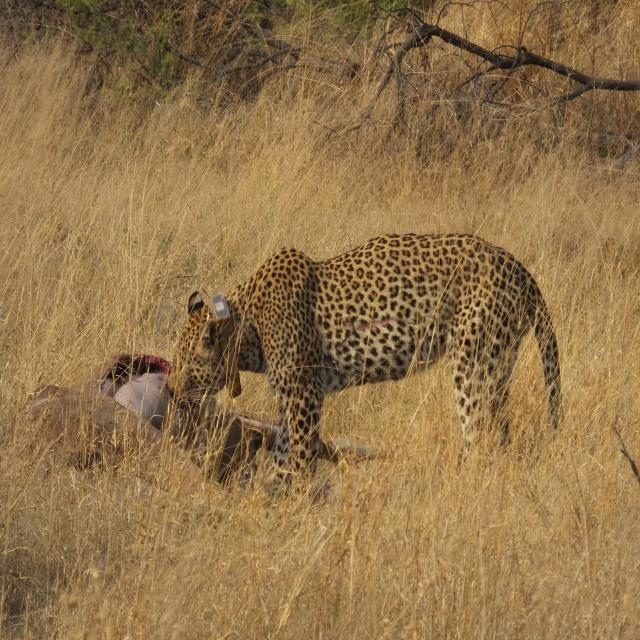Leopard: (194, 225, 573, 496)
